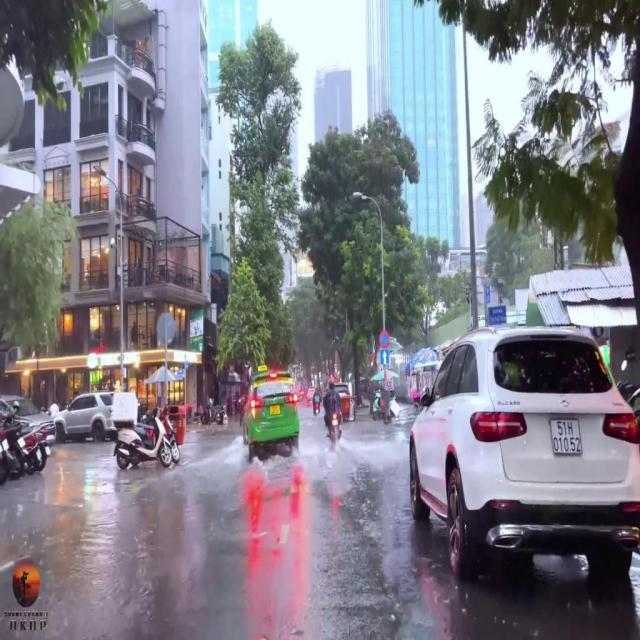cam_do_xe: (378, 329, 389, 348)
duong_mot_chieu: (380, 349, 390, 365)
